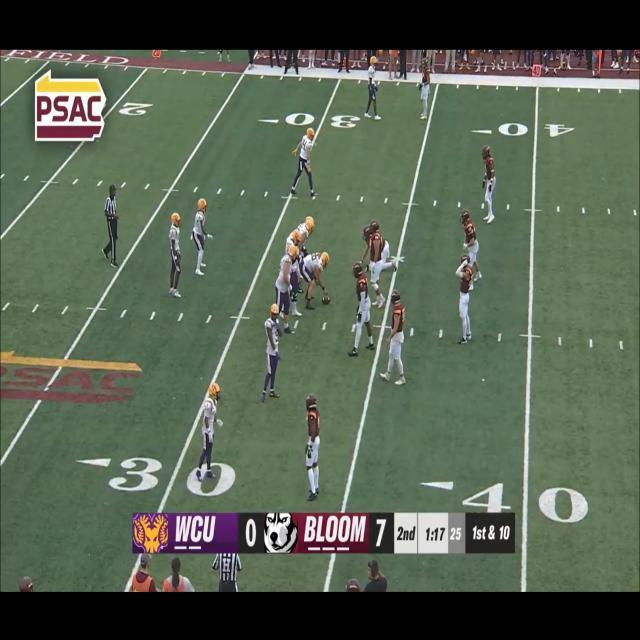football: (322, 296, 332, 306)
